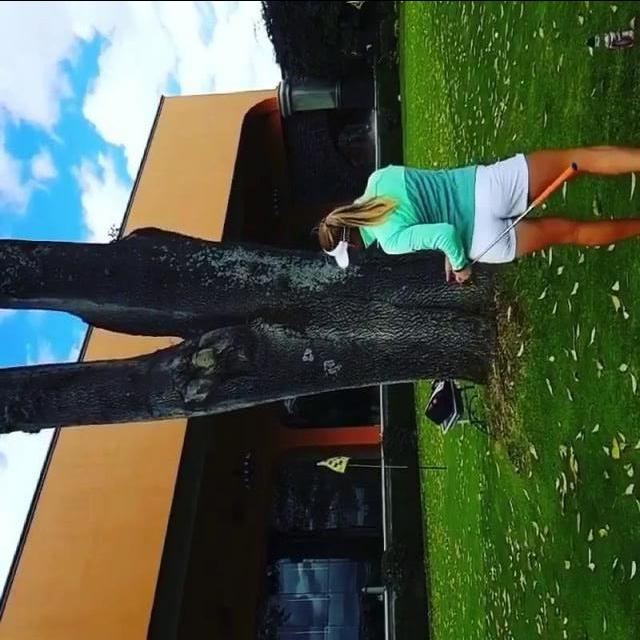golf club-handle: (470, 162, 577, 264)
